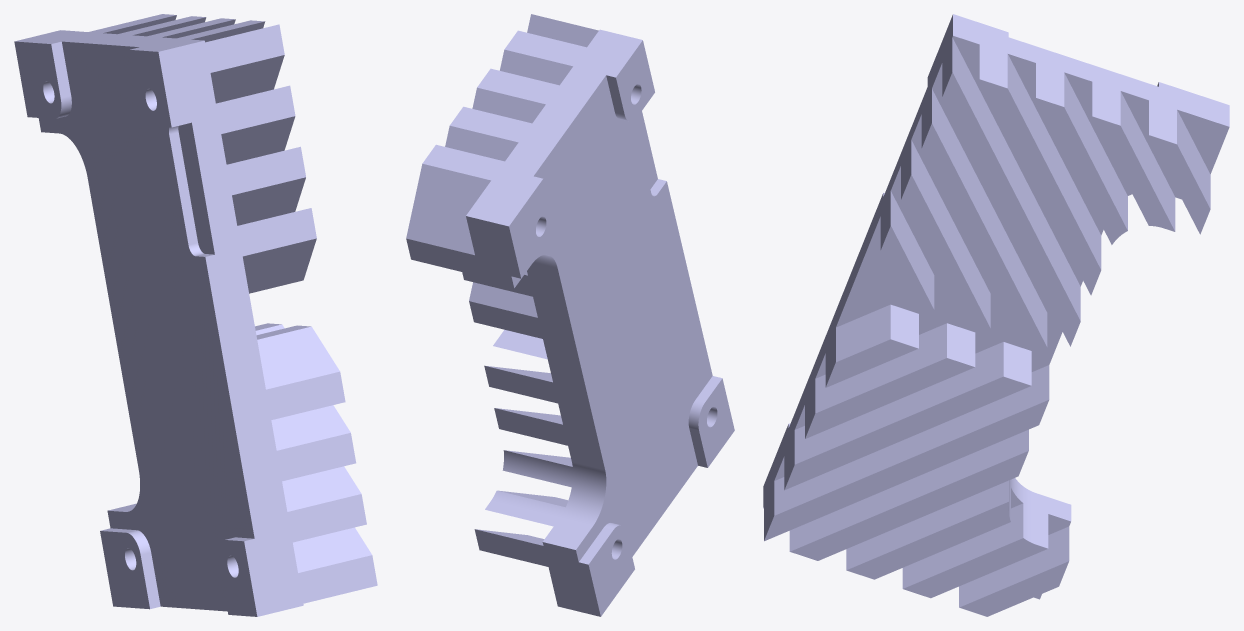
Rendered from EBoxNewAsm_stp_1_IMC413_stp_1_IMC413_0_stp_1_solid1.obj.
The picture shows the model from 3 angles, left to right: view 1: azimuth 30°, elevation 25°; view 2: azimuth 150°, elevation 25°; view 3: azimuth 270°, elevation 25°; orthographic projection. The views are drawn at different scales.
Visible parts, largest first — view 1: mesh7098, mesh7104, mesh7054, mesh7116, mesh7027, mesh7093, mesh7117, mesh7112, mesh7108, mesh7069, mesh7121, mesh7053 (+7 smaller); view 2: mesh7098, mesh7054, mesh7066, mesh7034, mesh7080, mesh7089, mesh7031, mesh7051, mesh7093, mesh7027, mesh7101, mesh7057 (+6 smaller); view 3: mesh7125, mesh7054, mesh7104, mesh7069, mesh7068, mesh7052, mesh7073, mesh7108, mesh7107, mesh7128, mesh7072, mesh7048 (+33 smaller).
Part boxes in pixels (x1,y1,x2,y2): mesh7098: [38, 41, 254, 611]; mesh7104: [158, 24, 377, 616]; mesh7054: [15, 14, 264, 51]; mesh7116: [257, 326, 339, 389]; mesh7027: [14, 41, 61, 118]; mesh7093: [100, 531, 149, 609]; mesh7117: [243, 238, 316, 293]; mesh7112: [255, 324, 350, 450]; mesh7108: [254, 325, 361, 511]; mesh7069: [293, 527, 371, 572]; mesh7121: [232, 177, 305, 225]; mesh7053: [210, 55, 284, 103]; mesh7098: [511, 75, 712, 561]; mesh7054: [422, 29, 642, 226]; mesh7066: [462, 262, 604, 469]; mesh7034: [406, 163, 490, 255]; mesh7080: [490, 450, 606, 526]; mesh7089: [474, 529, 600, 616]; mesh7031: [406, 216, 520, 288]; mesh7051: [469, 14, 598, 317]; mesh7093: [588, 525, 634, 616]; mesh7027: [509, 179, 552, 278]; mesh7101: [698, 378, 734, 467]; mesh7057: [616, 40, 654, 121]; mesh7125: [774, 63, 1062, 480]; mesh7054: [953, 14, 1229, 144]; mesh7104: [763, 15, 952, 540]; mesh7069: [774, 365, 1049, 515]; mesh7068: [764, 400, 1048, 541]; mesh7052: [942, 72, 1080, 346]; mesh7073: [789, 429, 1028, 551]; mesh7108: [794, 342, 1003, 464]; mesh7107: [784, 376, 1031, 489]; mesh7128: [921, 123, 1046, 346]; mesh7072: [790, 451, 1028, 560]; mesh7048: [980, 79, 1101, 295].
Size of the model in its own units: 0.0126 by 0.0586 by 0.0439.
